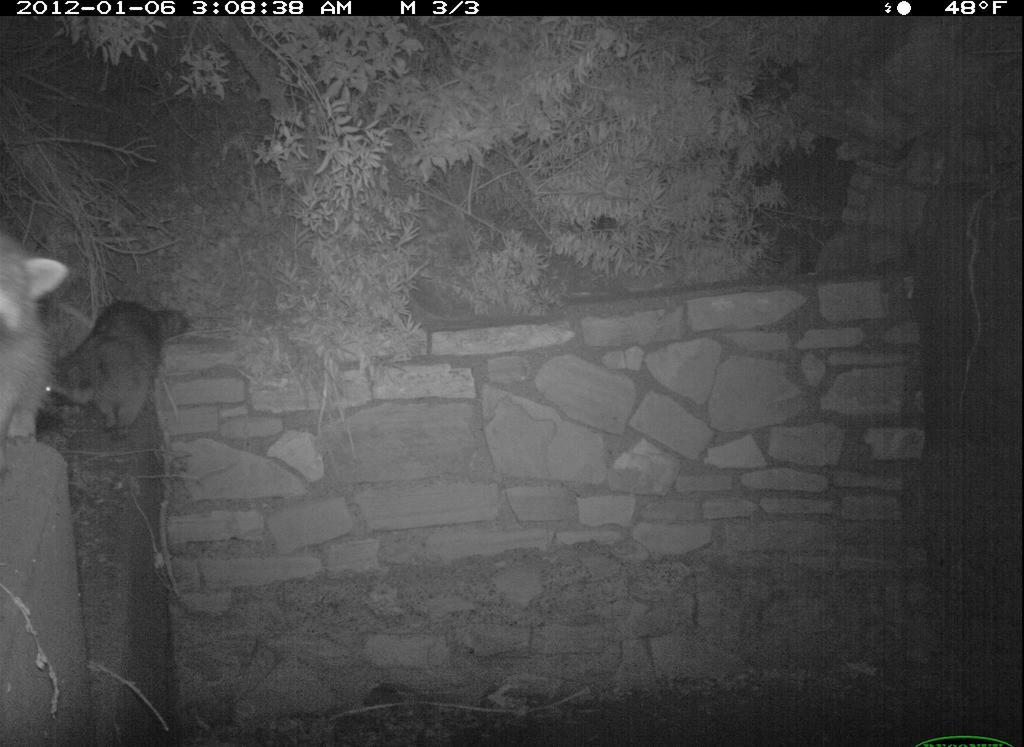raccoon: (58, 292, 201, 447), (3, 242, 68, 459)
